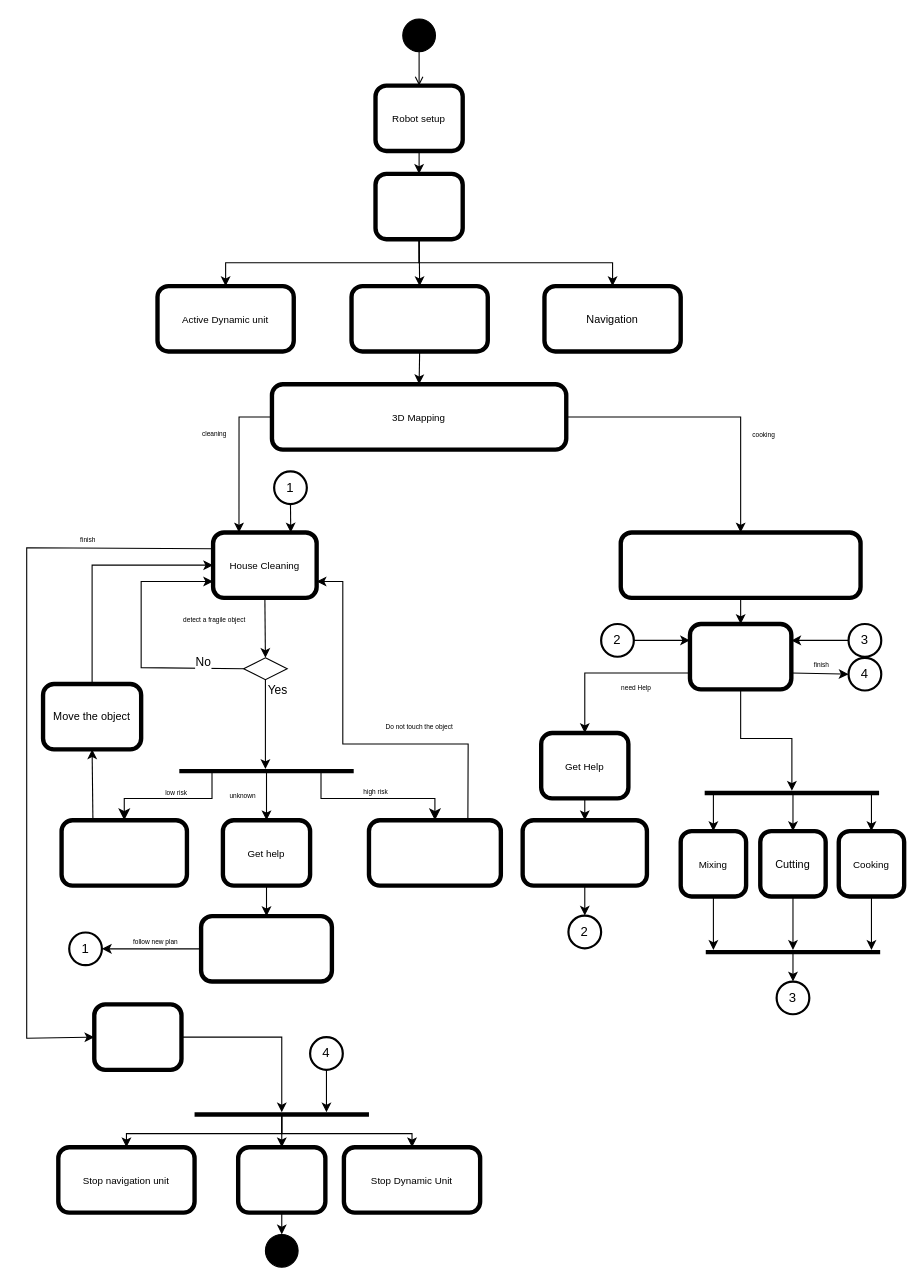
This 923x1286 diagram has some shape labels left out. The shapes that lost their labels are listed below. From the top down, each one's centre as x and y in pixels, then its label:
At point 418,206: "Get task".
At point 419,318: "Active camera sensors".
At point 740,564: "Active Temp. sensors & Microphones".
At point 740,656: "Meal preparation".
At point 123,852: "Active Tactile sensors".
At point 434,852: "Change cleaning plan".
At point 584,852: "Follow new structure".
At point 266,948: "New cleaning plan".
At point 137,1036: "Retrieve".
At point 281,1179: "Stop Sensors".
